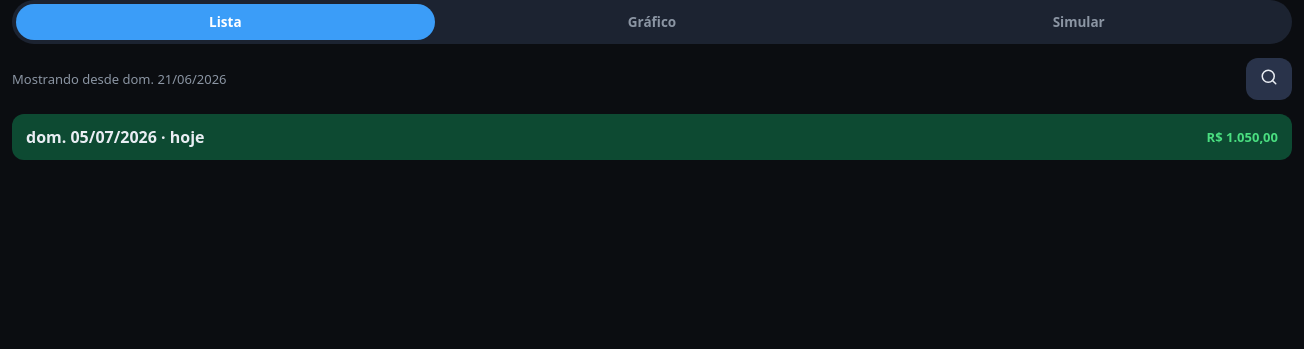
Test case: busca acha lançamento fora da janela de 14 dias e diz que olha todo o período
This screenshot has width=1304, height=349.
Click the button named "Buscar e filtrar" at (1269, 79), box [1246, 58, 1292, 100]
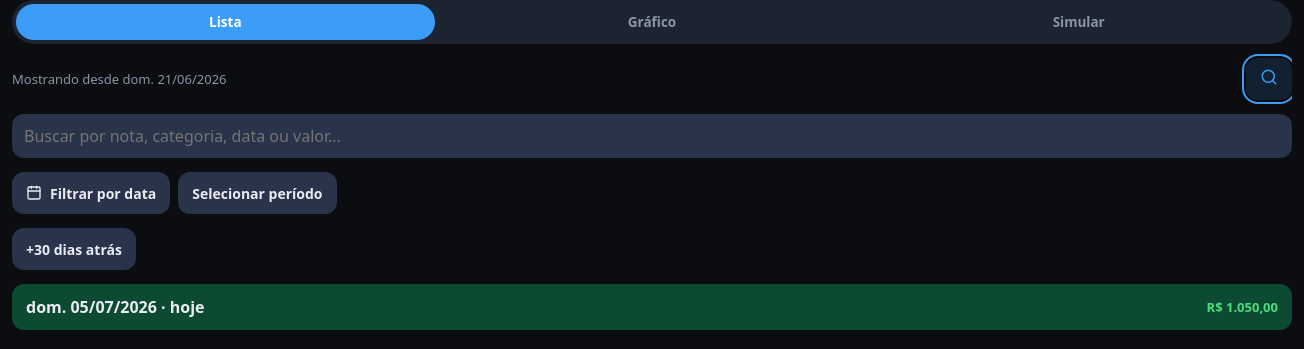
Expected: the text "padaria da esquina" is not shown
Type "padaria" into the search field with placeholder "Buscar por nota, categoria, data ou valor..." at (652, 136), box [12, 114, 1292, 158]
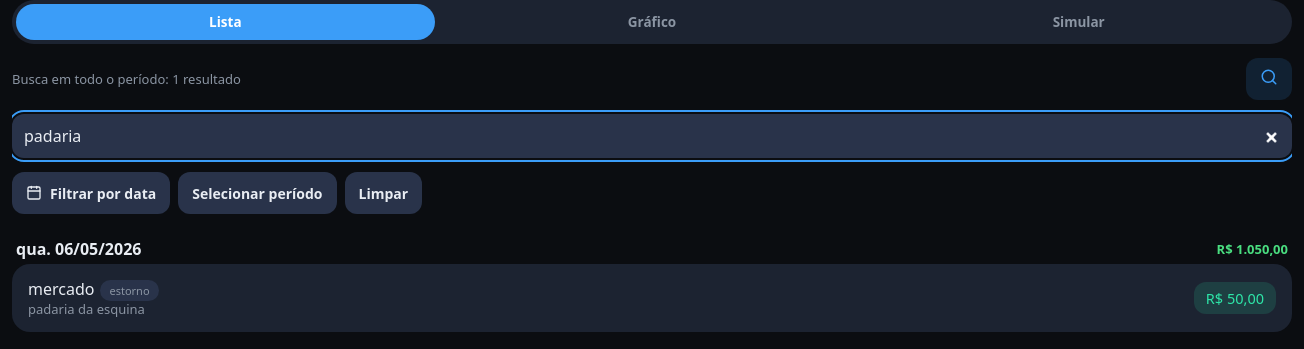
Expected: the text "padaria da esquina" is shown, [28, 300, 145, 318]
Expected: the text "Busca em todo o período: 1 resultado" is shown, [12, 70, 241, 88]
